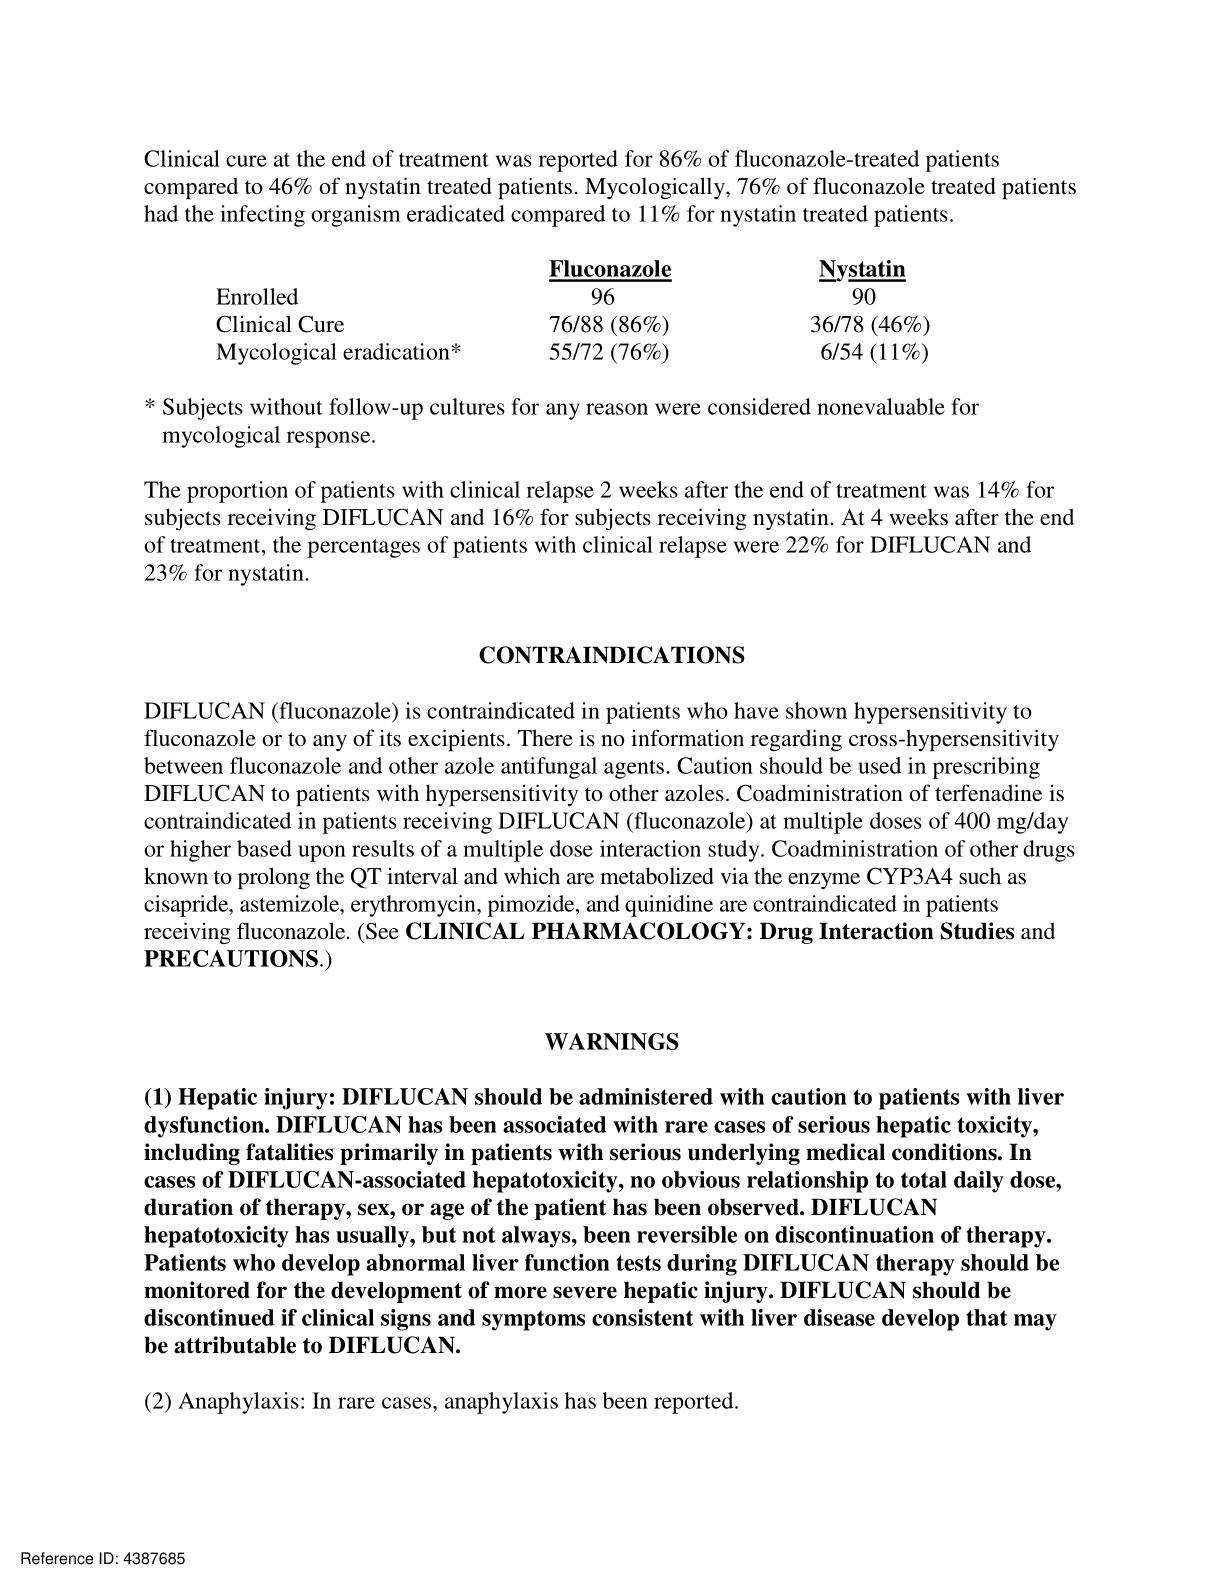nolines: (211, 255, 931, 366)
